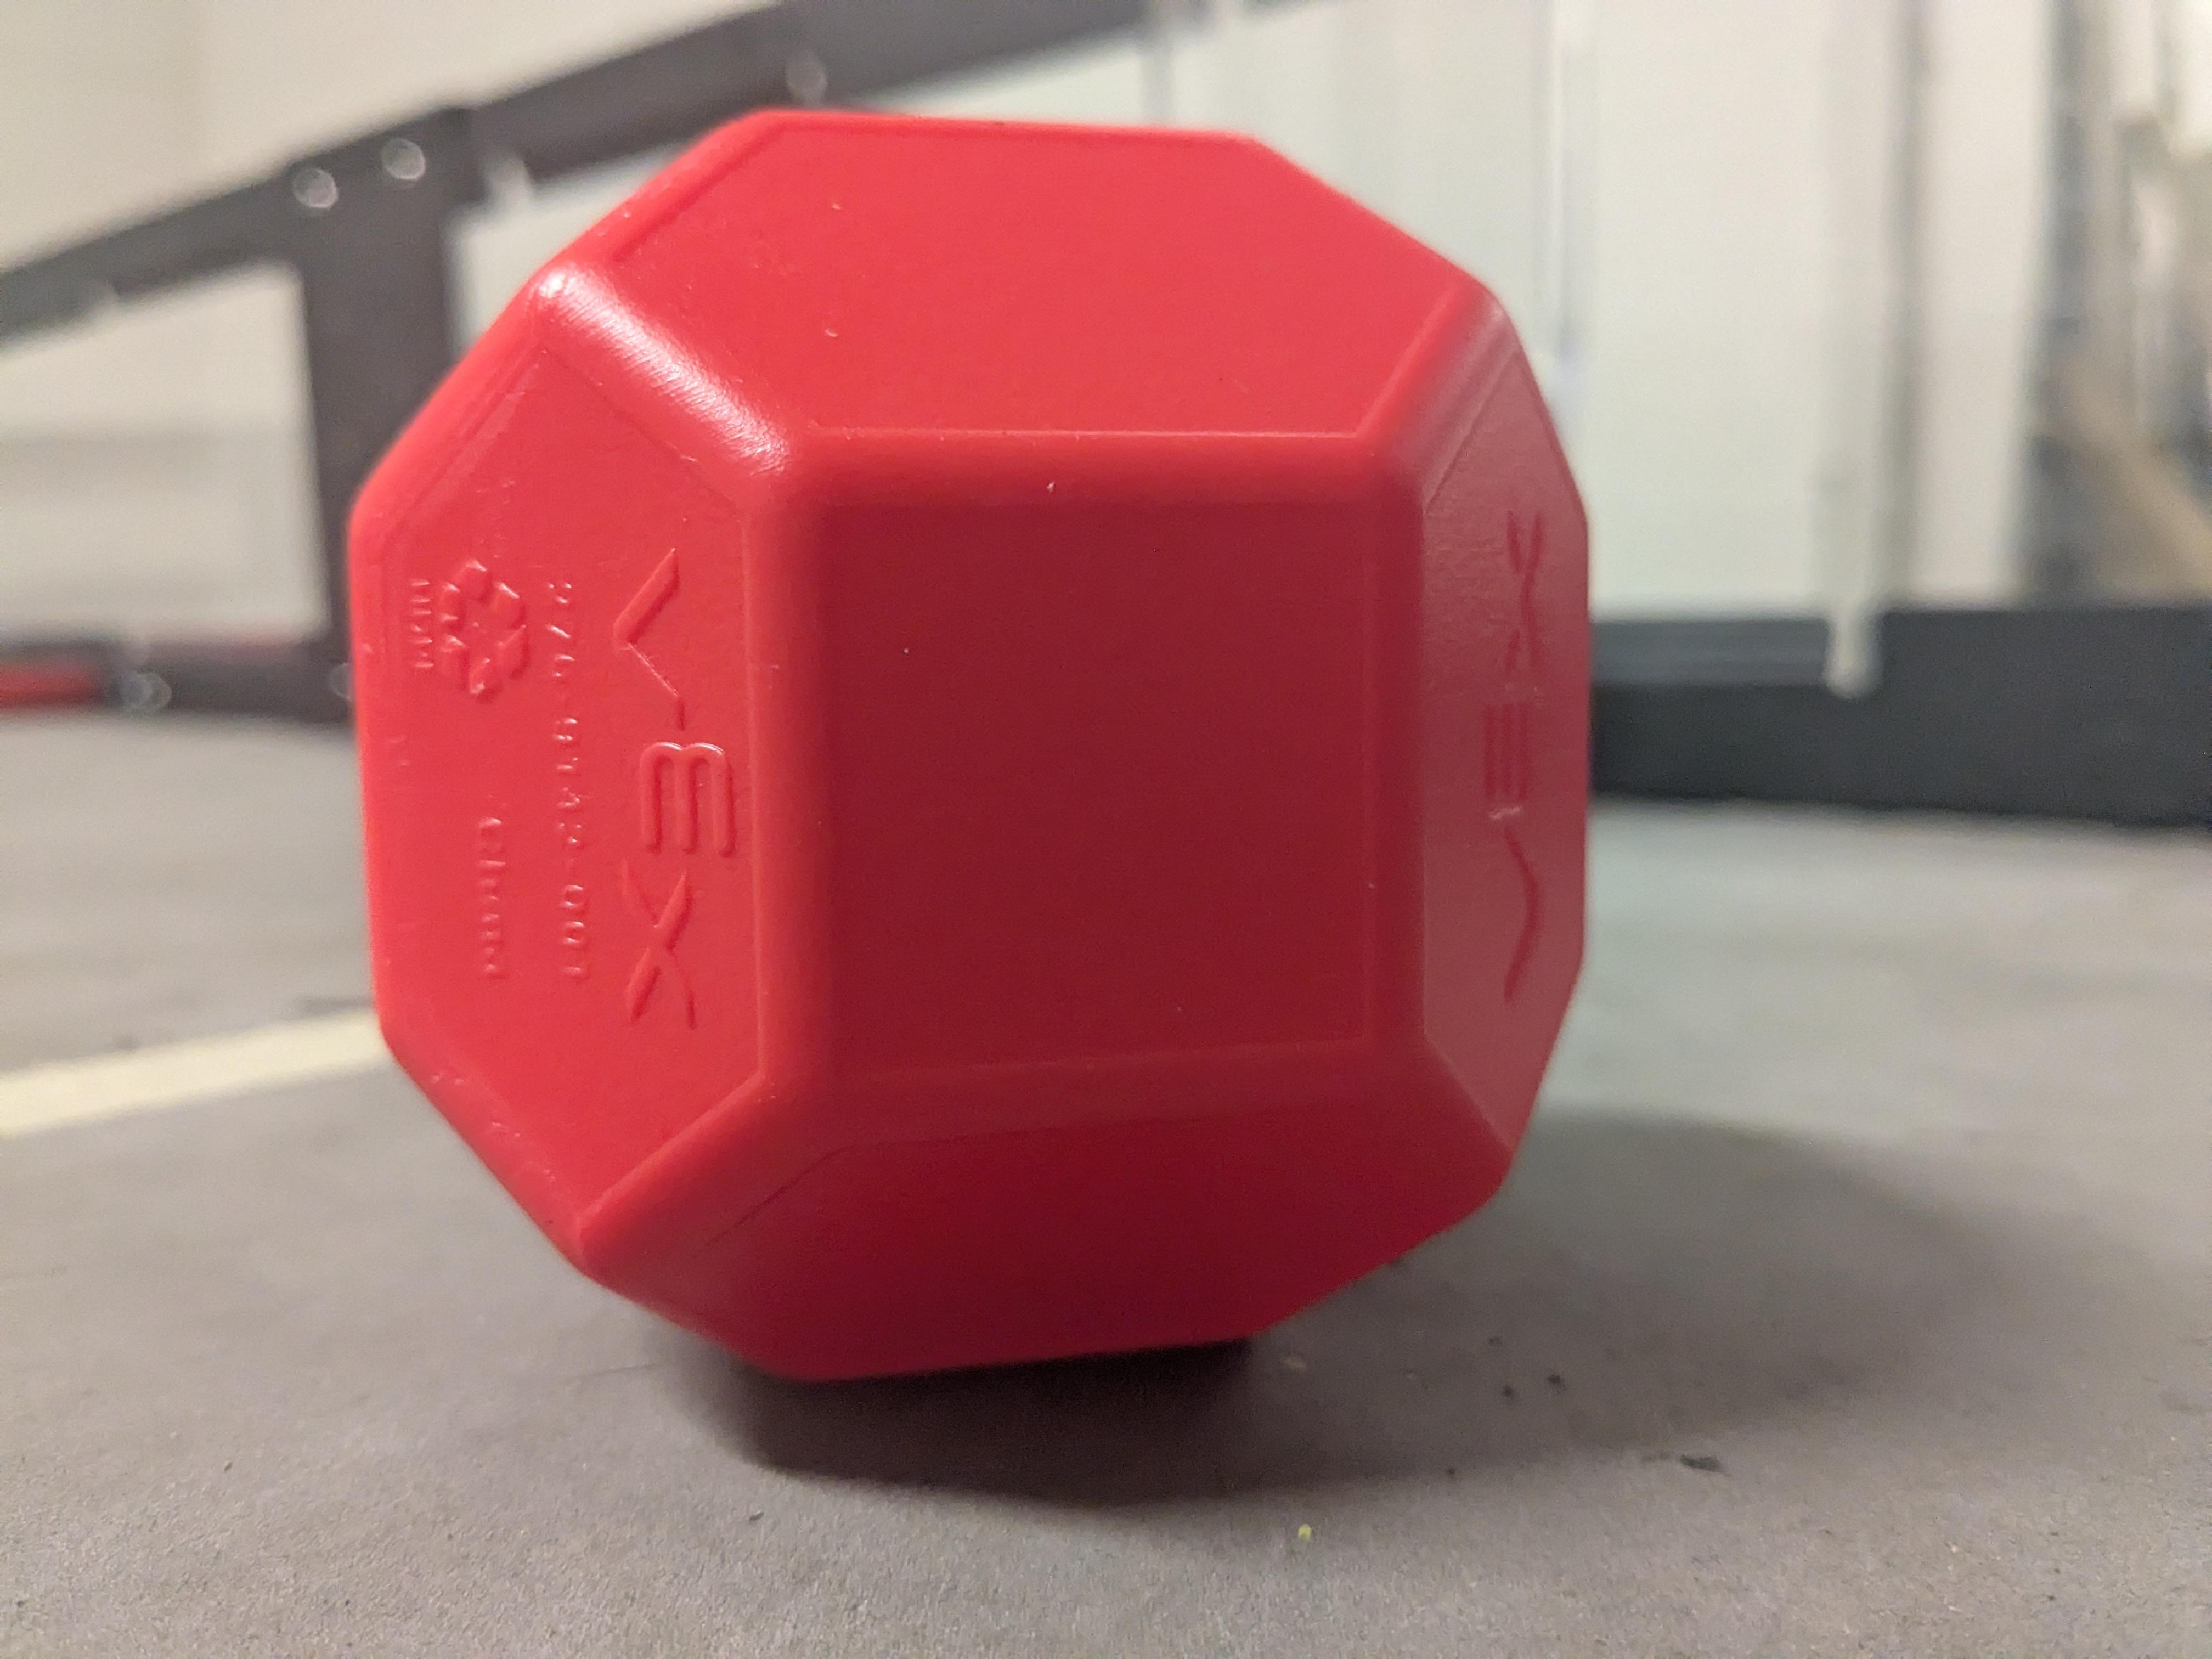Vex-Pieces-RED: (352, 113, 1588, 1378)
